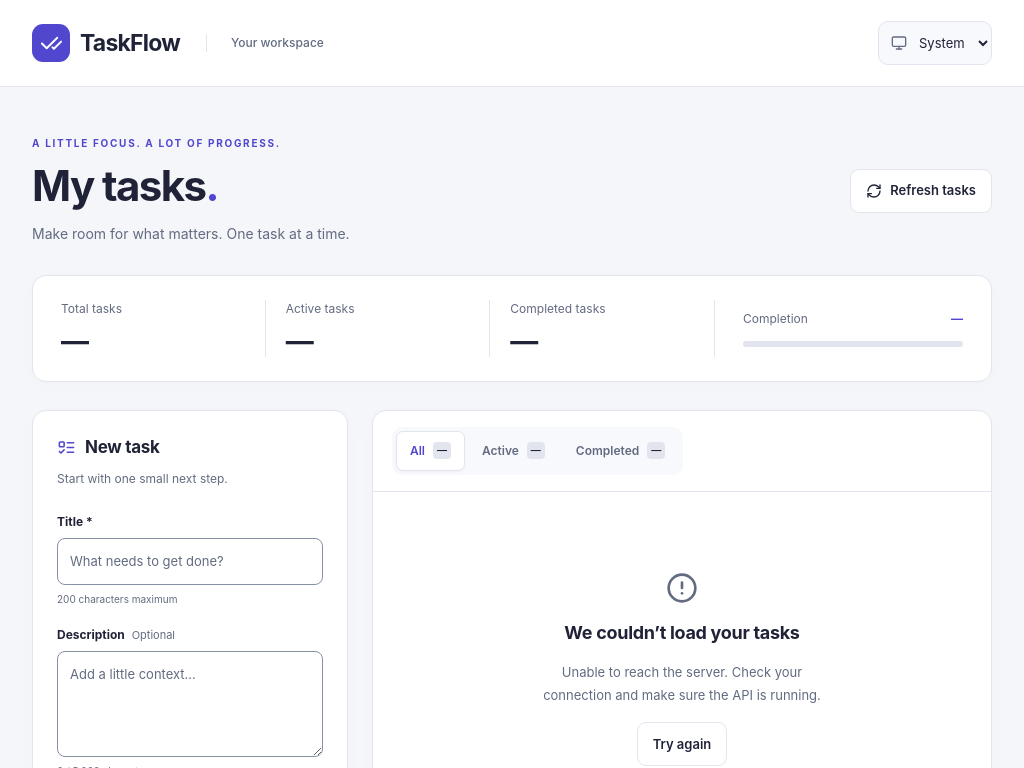
Test: Task workspace › offers read retry after a network failure
This screenshot has width=1024, height=768.
Expected: the message shows "Unable to reach", [543, 664, 821, 703]
What coordinates should you click on to do the following:
click the button "Try again"
I would click on:
 (682, 744)
Its box is [637, 722, 727, 766].
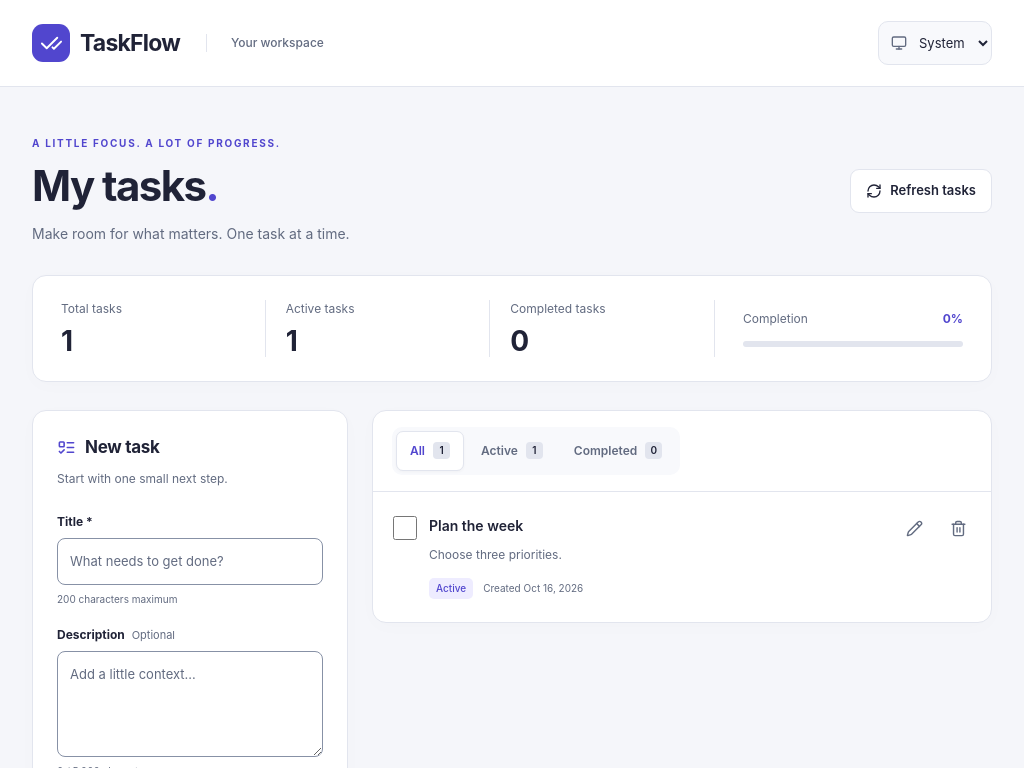
Now the heading "Plan the week" is shown, box [429, 517, 523, 534]
